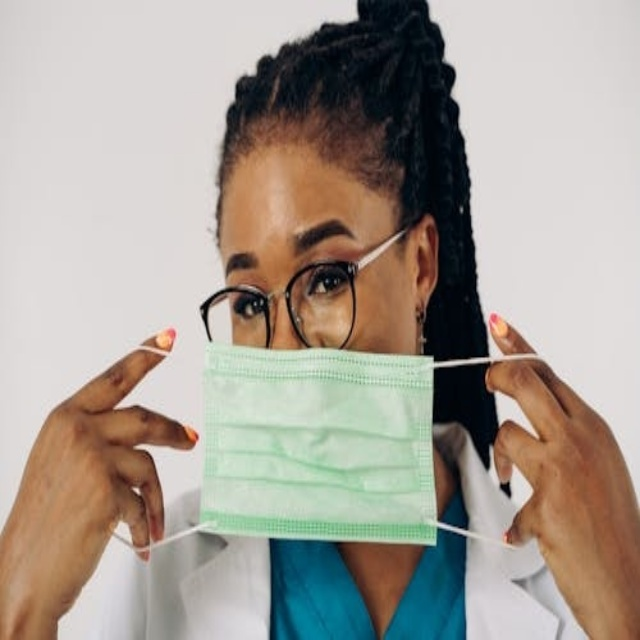Gafas: (201, 218, 418, 350)
Mascara: (200, 344, 439, 544)
Sin_guantes: (2, 328, 202, 638), (482, 312, 640, 639)
